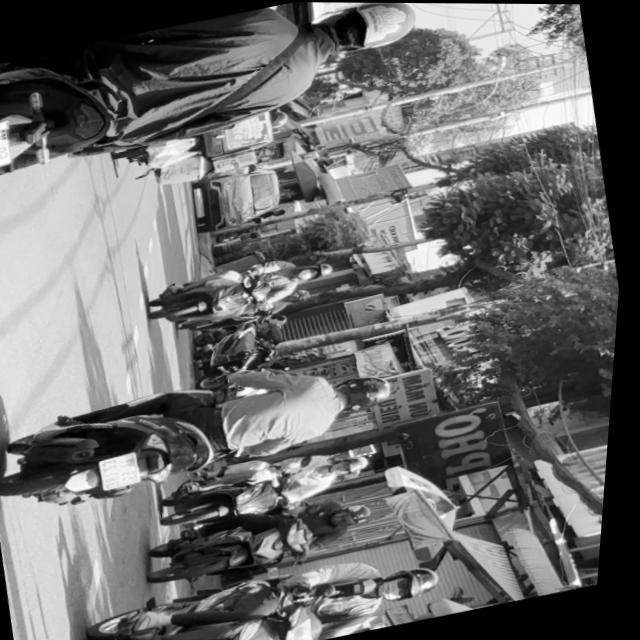helmet: (311, 2, 422, 60), (380, 560, 452, 606), (339, 369, 403, 414), (336, 451, 379, 477), (342, 501, 383, 527), (299, 259, 340, 282)
licenseplate: (0, 0, 441, 210), (0, 336, 417, 526), (79, 535, 459, 640), (148, 483, 392, 593), (159, 435, 386, 533), (144, 243, 348, 335)
nohelmet: (105, 451, 150, 490), (0, 122, 18, 174)
